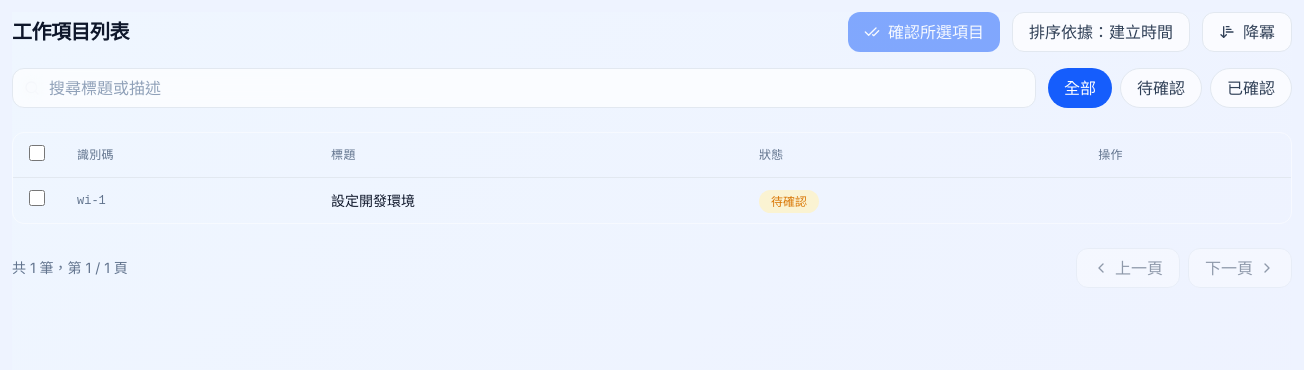
Test: WorkItemsList › 成功批量確認後回饋數量並清除選取
Check: the link "設定開發環境" is shown, box [331, 192, 415, 208]
Click the checkbox named "選取 設定開發環境": {"x": 37, "y": 198} [29, 190, 45, 206]
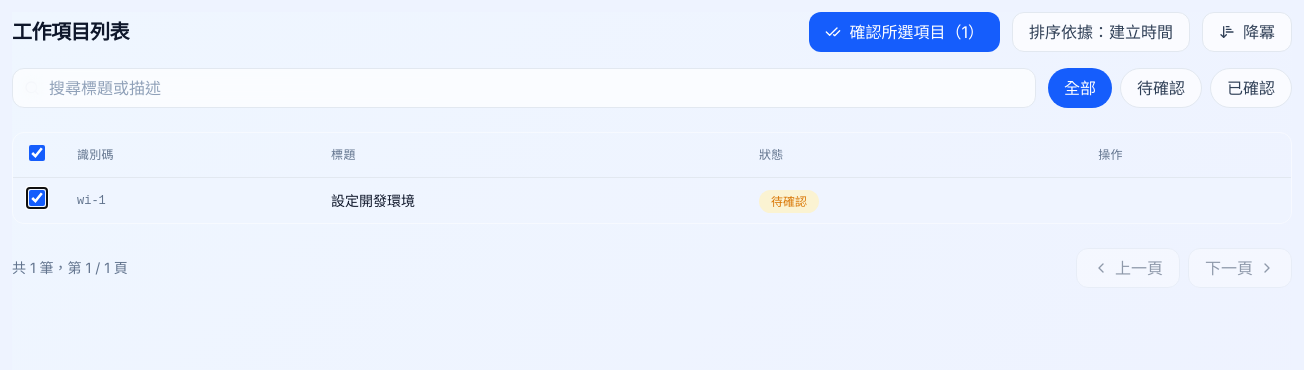
Click the button "確認所選項目（1）": {"x": 905, "y": 32} [809, 12, 1000, 52]
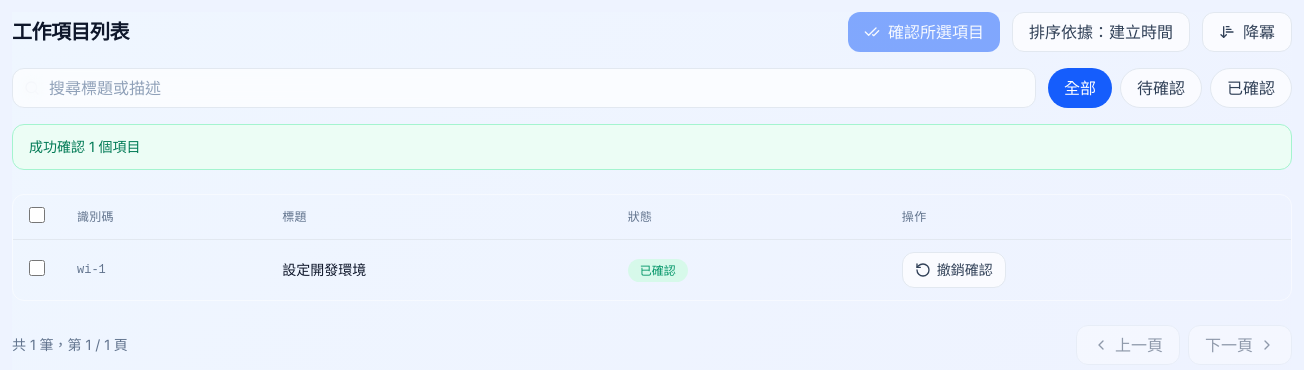
Check: the text "成功確認 1 個項目" is shown, box [12, 124, 1292, 170]
Check: the button "確認所選項目" is disabled, box [848, 12, 1000, 52]
